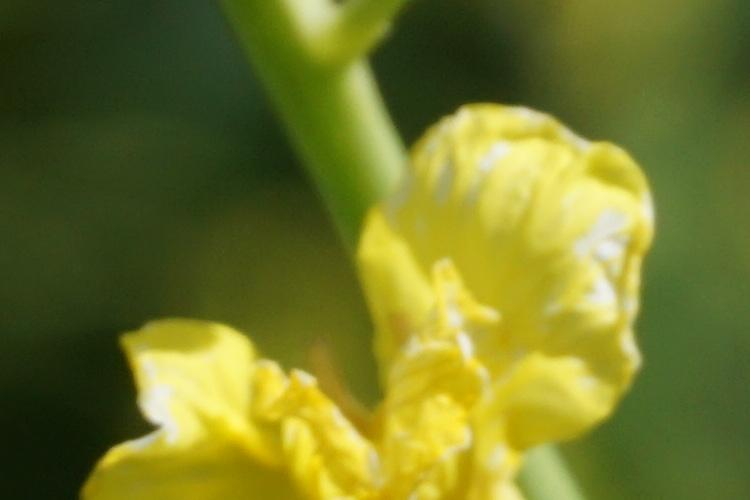yellow: (73, 97, 654, 497)
